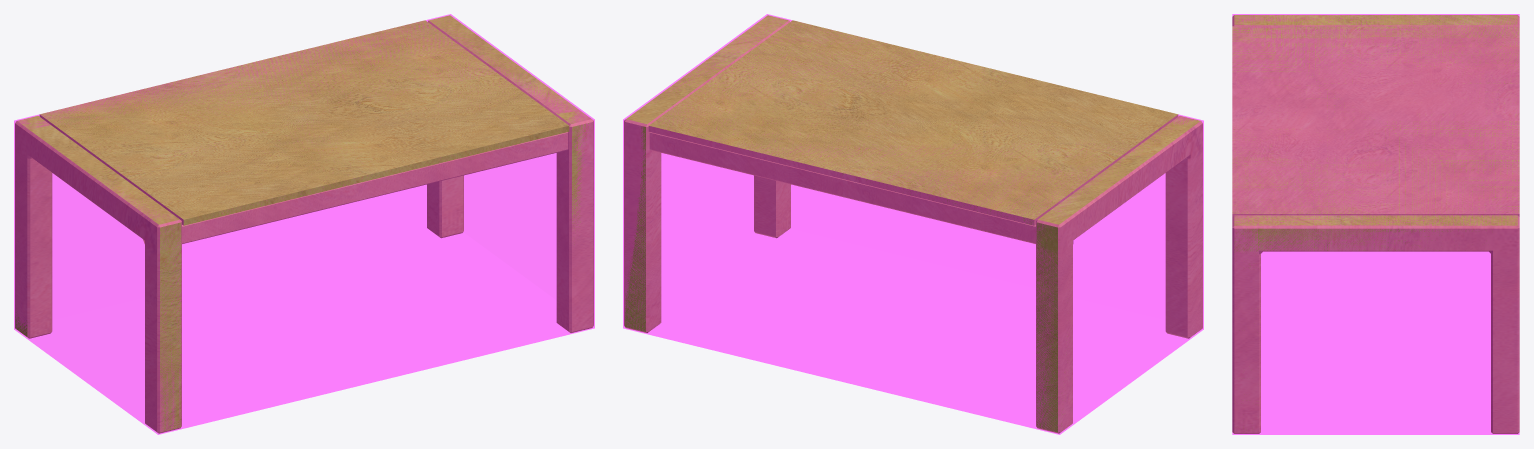
File: sidetable_B.fbx
3 renders of one model, left to right at view 1: azimuth 30°, elevation 25°; view 2: azimuth 150°, elevation 25°; view 3: azimuth 270°, elevation 25°, orthographic.
Visible parts, largest first — view 1: boundingbox, sidetable_B; view 2: boundingbox, sidetable_B; view 3: boundingbox, sidetable_B.
Part boxes in pixels (<box>): boundingbox: <box>14,14,594,434</box>; sidetable_B: <box>15,15,593,433</box>; boundingbox: <box>623,14,1203,434</box>; sidetable_B: <box>624,15,1202,433</box>; boundingbox: <box>1232,14,1519,434</box>; sidetable_B: <box>1232,15,1519,433</box>.
Bounding box in the file's own units: 70 × 32 × 40.
Materials: 2 (1 with a texture image).
